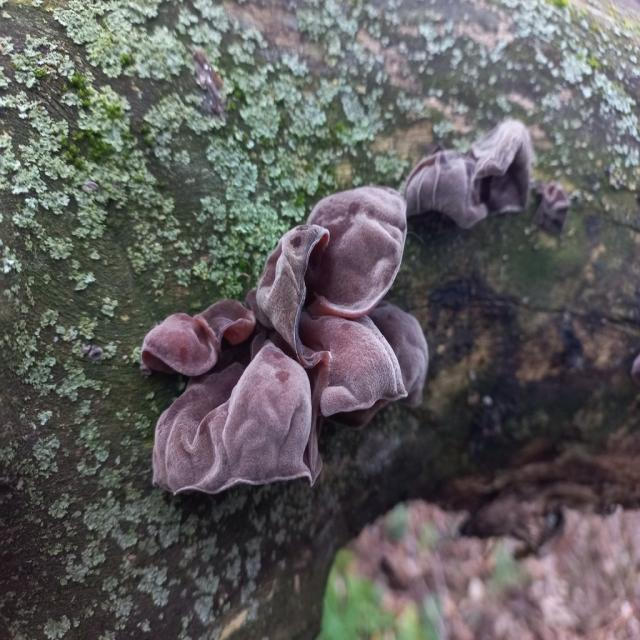Matang: (146, 340, 330, 508), (298, 176, 412, 322), (400, 114, 536, 231), (322, 300, 431, 433), (252, 211, 332, 387), (296, 311, 413, 425), (135, 293, 259, 380), (537, 178, 572, 232)
